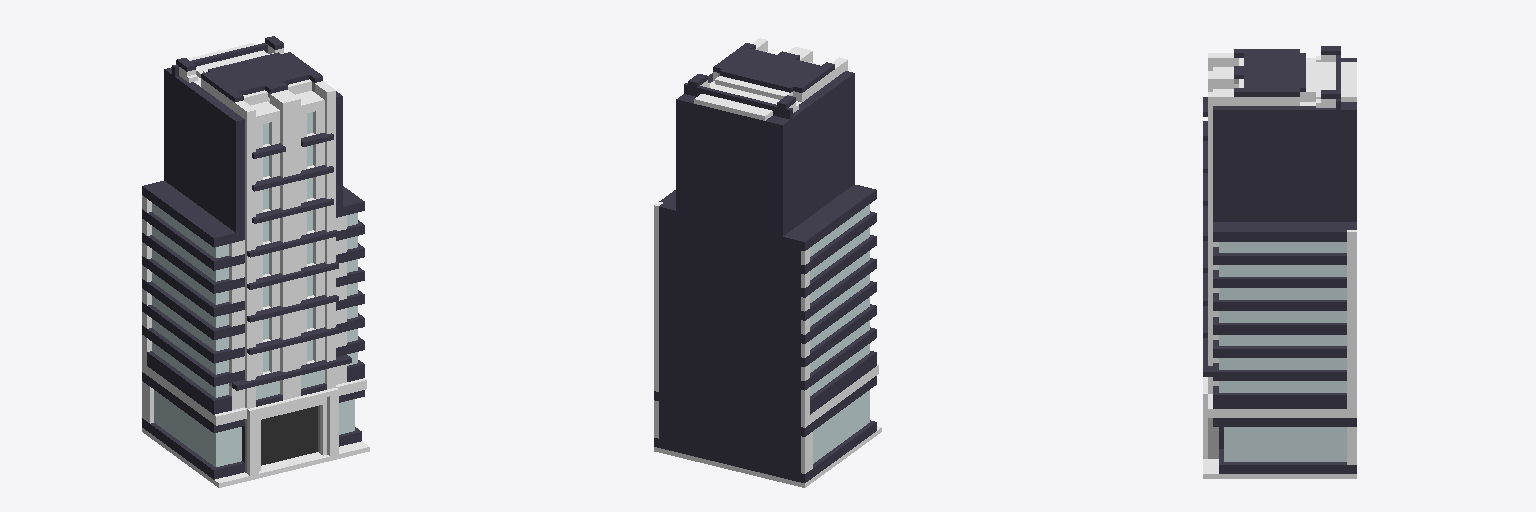
3 renders of one model, left to right at view 1: azimuth 30°, elevation 25°; view 2: azimuth 150°, elevation 25°; view 3: azimuth 270°, elevation 25°, orthographic.
Size of the model in its own units: 34 by 80 by 30.
Materials: 1 (1 with a texture image).